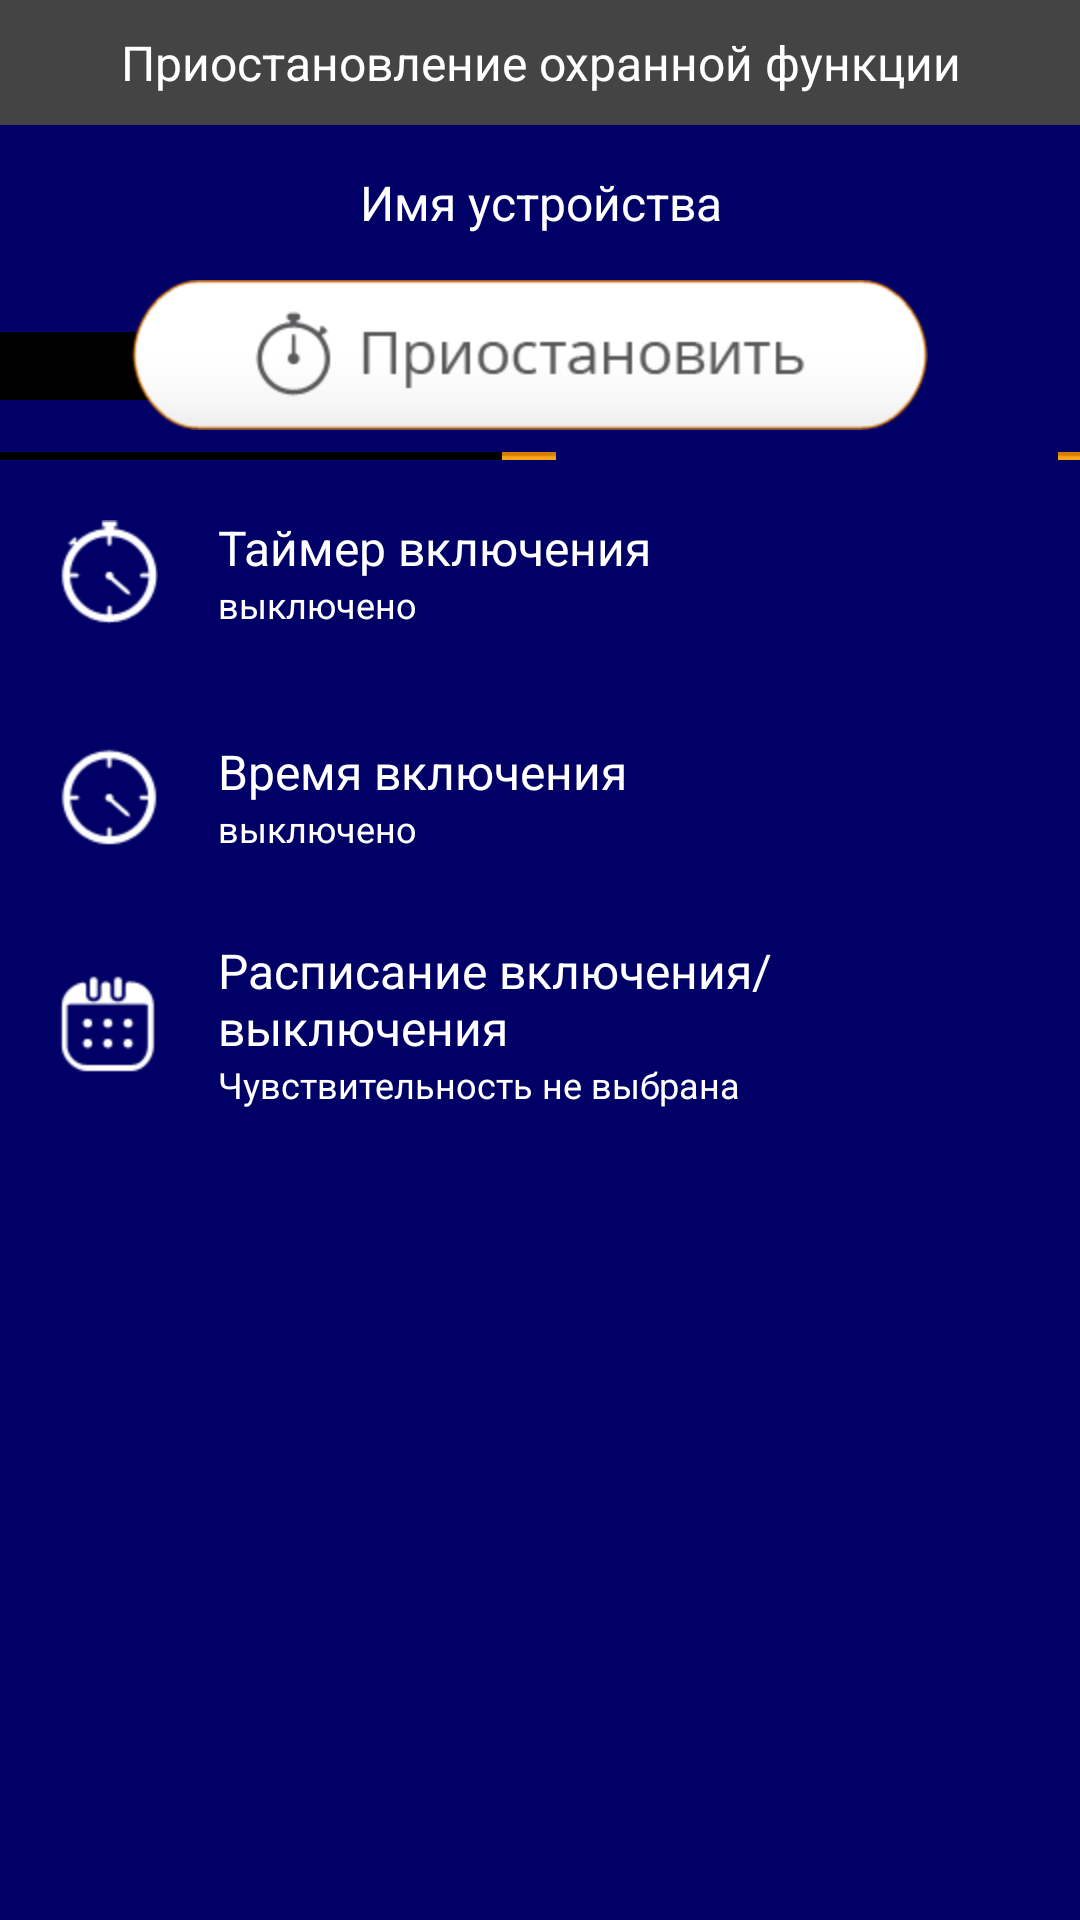

Icons on this 1080x1920 Android screen, each with the point to tap as point (x, y):
schedule: point (108, 1024)
time: point (109, 797)
timer: point (109, 571)
